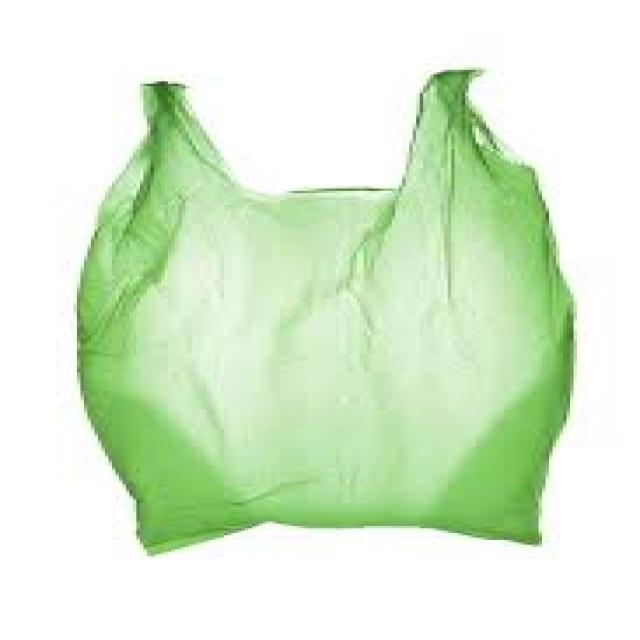Anorganik: (70, 67, 573, 554)
